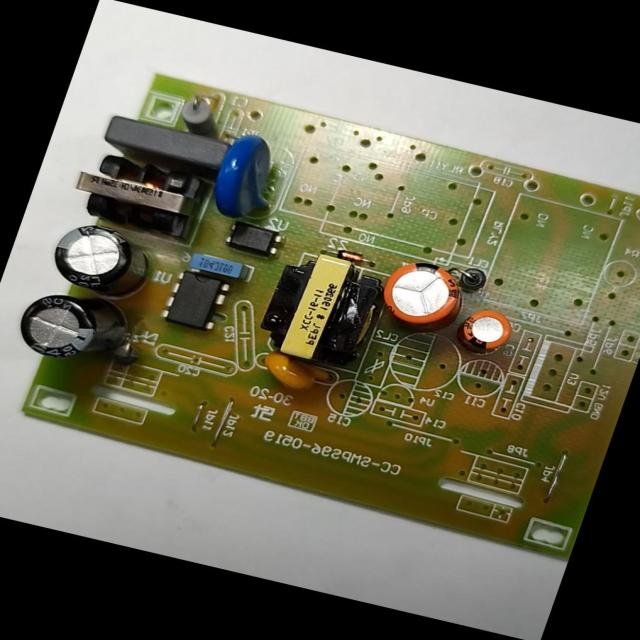Cap1: (376, 254, 472, 330)
Cap2: (457, 304, 520, 354)
Cap3: (43, 216, 163, 303)
Cap4: (11, 283, 129, 370), (171, 92, 230, 138)
MOSFET: (159, 267, 235, 334)
Mov: (202, 128, 292, 228)
Transformer: (252, 246, 392, 370), (56, 143, 212, 244)
